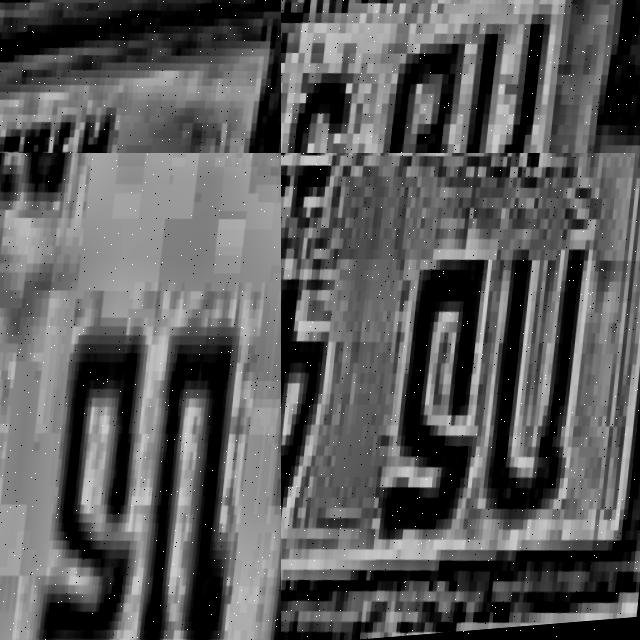license-plate: (281, 153, 640, 640), (0, 153, 281, 640), (281, 0, 640, 153), (0, 0, 281, 153)
